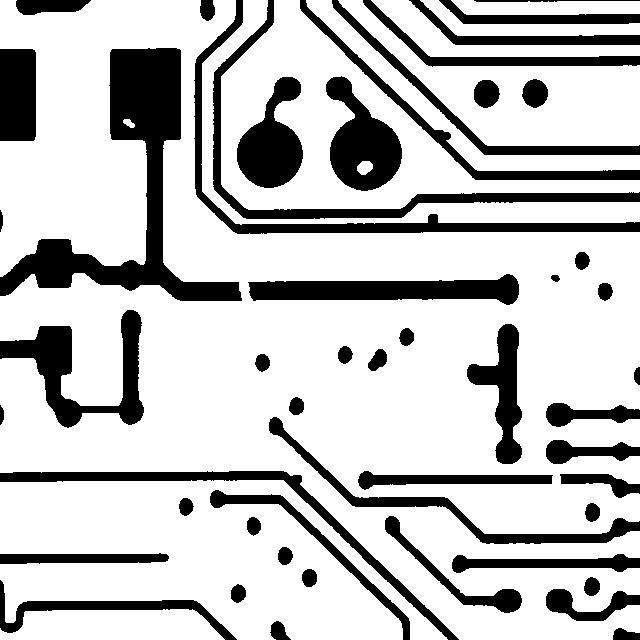copper: (358, 339, 396, 380), (541, 265, 569, 291)
open: (229, 271, 262, 312), (542, 464, 570, 496)
pin-hole: (347, 151, 382, 184), (113, 109, 144, 137)
short: (65, 396, 137, 422)
spur: (423, 120, 460, 151), (278, 465, 311, 493), (418, 204, 447, 235)
